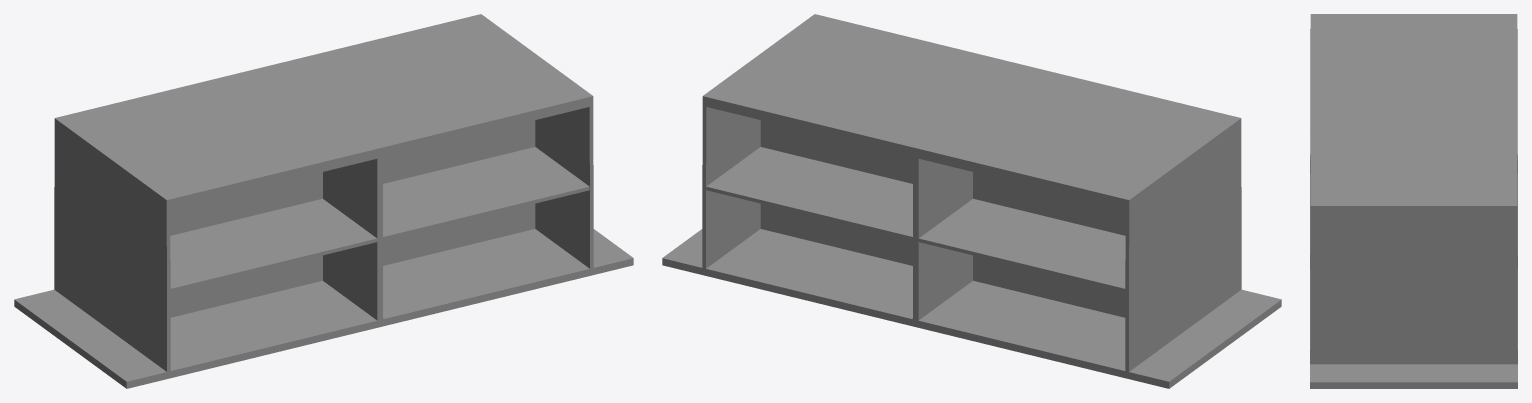
File: shoe_regal.fbx
3 views of the same model, side by side, from view 1: azimuth 30°, elevation 25°; view 2: azimuth 150°, elevation 25°; view 3: azimuth 270°, elevation 25° (orthographic). The views are drawn at different scales.
Visible parts, largest first — view 1: shoe_regal; view 2: shoe_regal; view 3: shoe_regal.
Part boxes in pixels (x1,y1,x2,y2): shoe_regal: [14, 14, 633, 388]; shoe_regal: [662, 14, 1281, 388]; shoe_regal: [1310, 14, 1517, 388].
Size of the model in its own units: 242 by 81.5 by 93.04.
